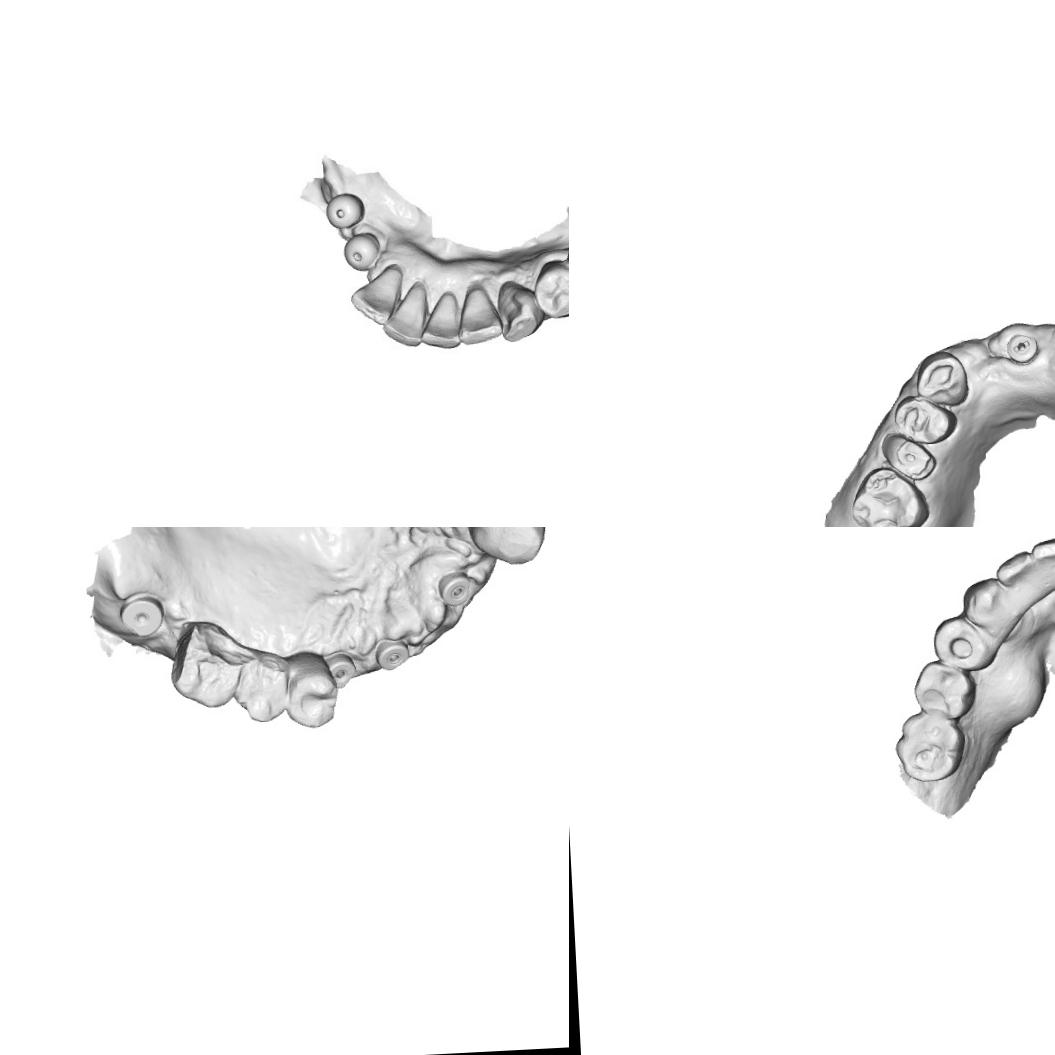canine: (912, 347, 971, 408), (492, 276, 540, 346), (467, 527, 545, 567), (958, 575, 1006, 626)
implant: (117, 589, 167, 638), (318, 185, 367, 232), (344, 228, 382, 270), (374, 636, 410, 674), (326, 648, 358, 690), (438, 571, 474, 605)
implant_minus: (1003, 332, 1040, 366)
incisor: (348, 264, 404, 327), (382, 282, 426, 347), (458, 286, 502, 348), (418, 292, 462, 352), (993, 548, 1035, 591), (1030, 533, 1055, 586)
molar: (166, 618, 244, 712), (892, 710, 968, 782), (846, 465, 932, 527)
premolar: (284, 650, 340, 732), (234, 645, 292, 724), (910, 656, 977, 720), (890, 390, 958, 446), (932, 613, 992, 672), (879, 430, 937, 483), (533, 262, 569, 313)
